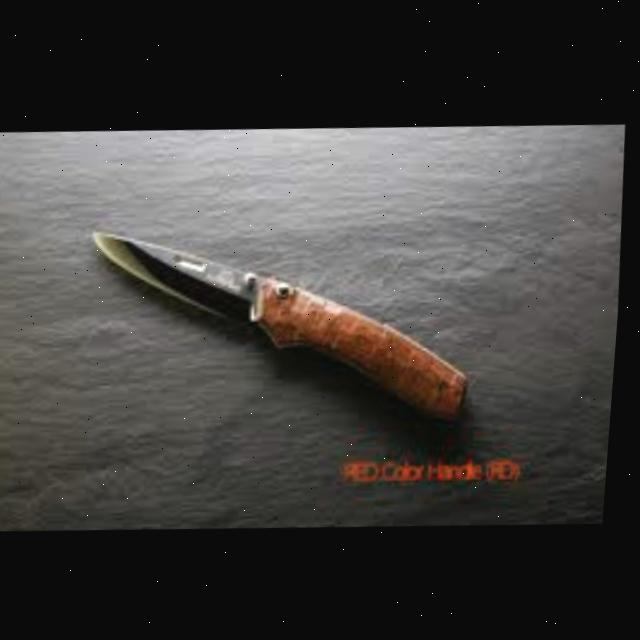Knife: (83, 212, 484, 431)
